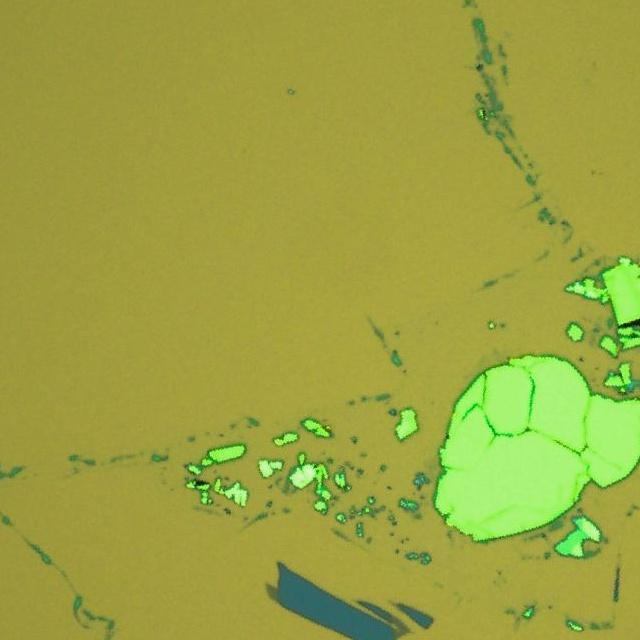monolayer-eWW4: (390, 618, 411, 640), (264, 582, 277, 600)
